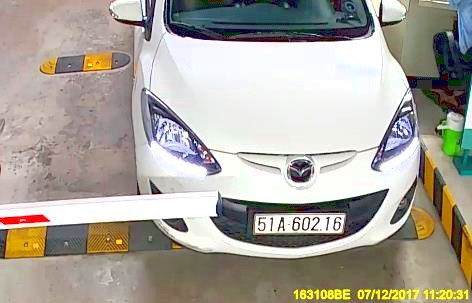plate: (254, 211, 347, 236)
